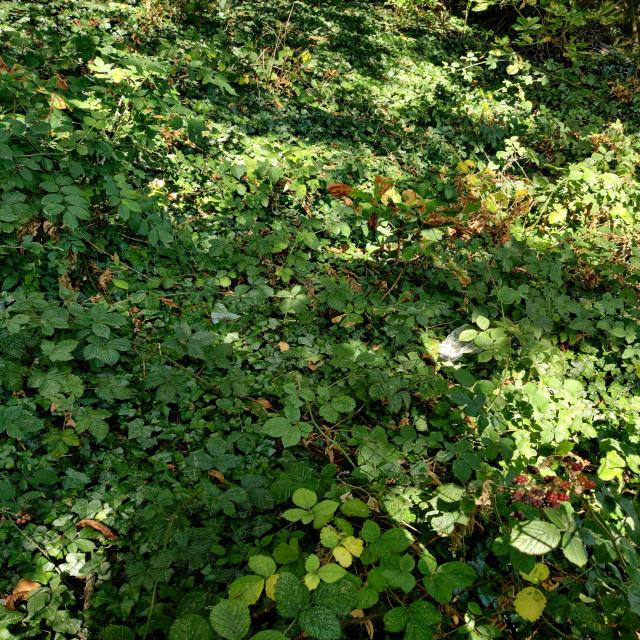litter: (432, 320, 502, 364)
